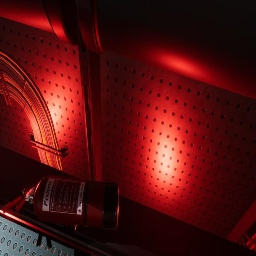FireExtinguisher ]: (3, 175, 119, 230)
